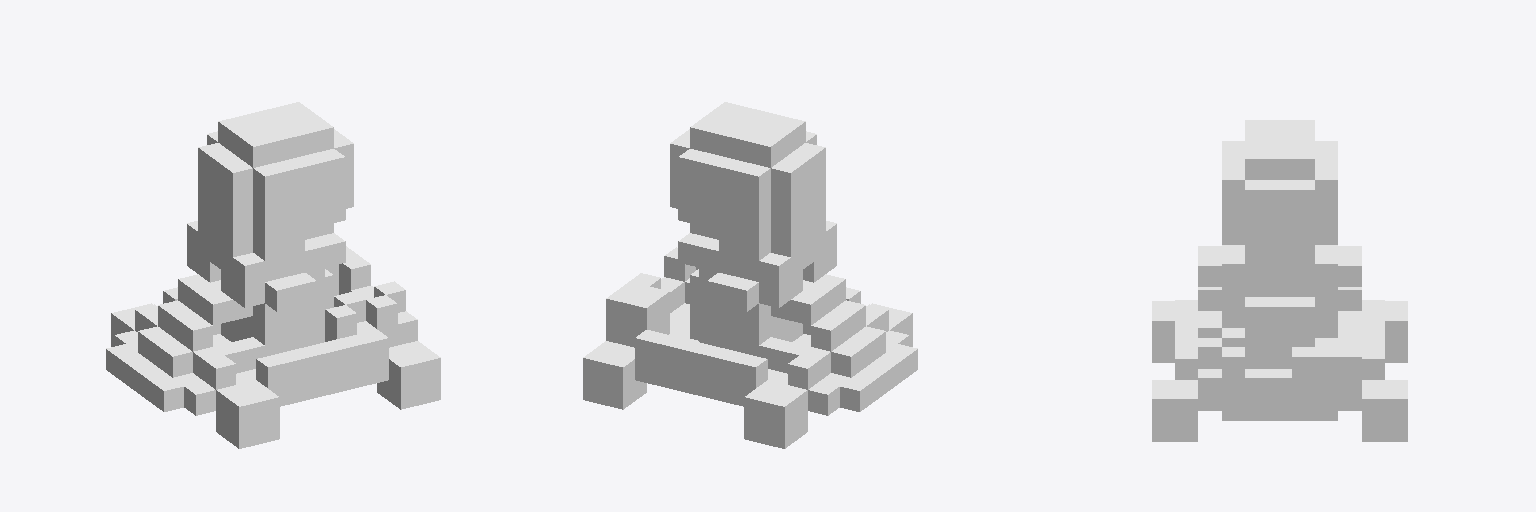
The model's file is car_gocart_t1_middle_blue_buddie.obj.
3 renders of one model, left to right at view 1: azimuth 30°, elevation 25°; view 2: azimuth 150°, elevation 25°; view 3: azimuth 270°, elevation 25°, orthographic.
Parts seen in each view (by area): view 1: object 1; view 2: object 1; view 3: object 1.
Boxes of the visible parts, box(x1,y1,x2,y2) form: object 1: box(106, 102, 440, 448); object 1: box(583, 102, 917, 448); object 1: box(1152, 120, 1407, 441).
Bounding box in the file's own units: 1.2 × 1.2 × 1.1.